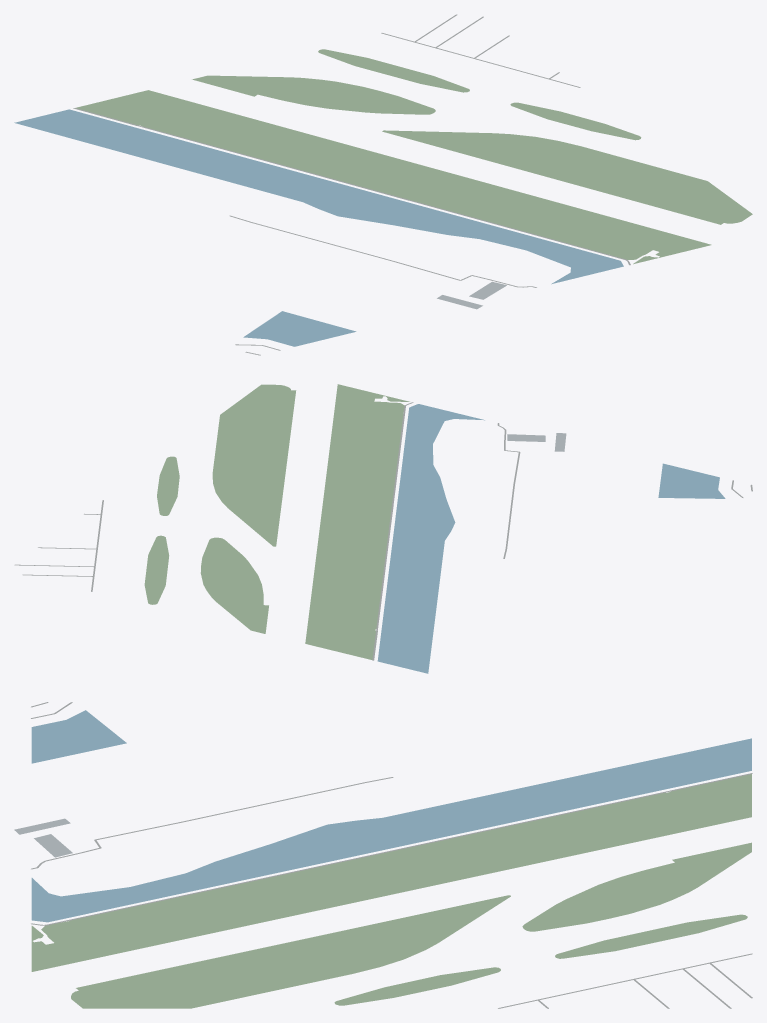
The model's file is -24_10-known-coarse.glb.
3 views of the same model, one above another, from view 1: azimuth 30°, elevation 25°; view 2: azimuth 150°, elevation 25°; view 3: azimuth 270°, elevation 25° (orthographic). The views are drawn at different scales.
Size of the model in its own units: 1002 by 0.15 by 1020.
